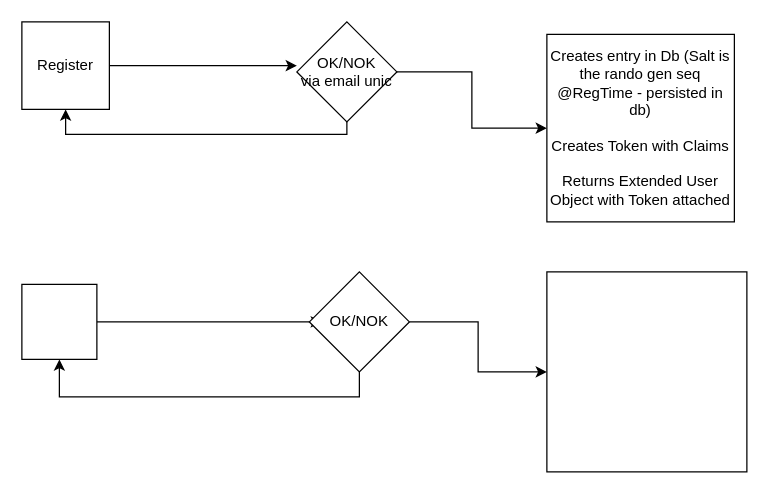
Some shapes in this 769 by 494 pixel diagram are drawn without their labels. The shapes that lost their labels are listed below. From the top down, each one's centre as x and y in pixels, then its label:
At pixel 59 321: "LOGIN/ user/pass".
At pixel 646 371: "Retrieves User from Db Returns Extended User Object with Token attached".
